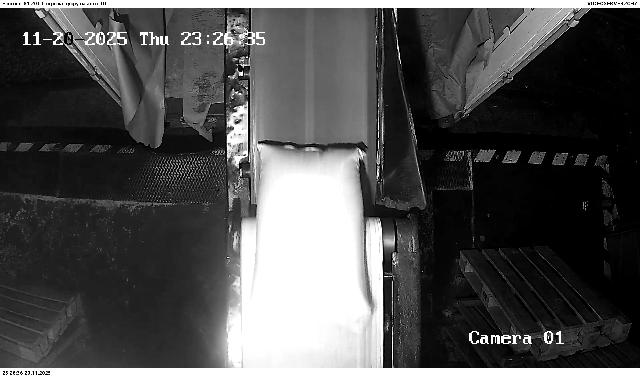bag: (251, 142, 373, 336)
